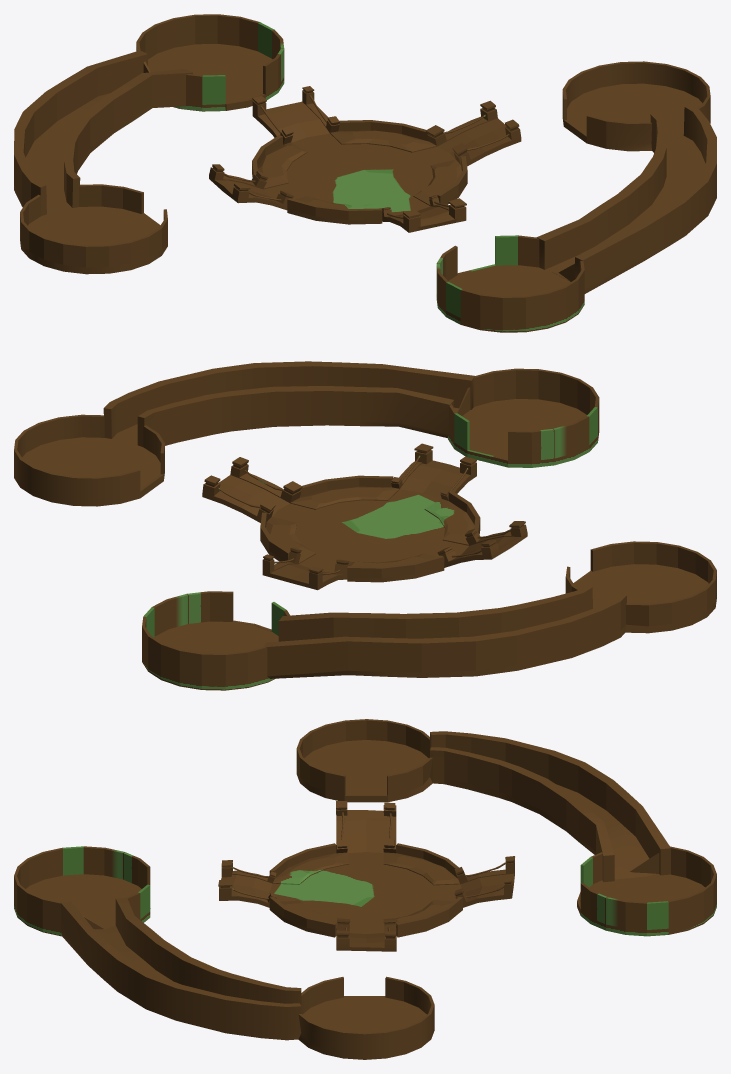
File: final map 1.fbx
3 renders of one model, top to bottom at view 1: azimuth 30°, elevation 25°; view 2: azimuth 150°, elevation 25°; view 3: azimuth 270°, elevation 25°, orthographic. The views are drawn at different scales.
Visible parts, largest first — view 1: polySurface1, midd_island, polySurface3, island_3, polySurface2; view 2: polySurface1, polySurface3, midd_island, polySurface2, island_3; view 3: polySurface3, polySurface1, midd_island, polySurface2, island_3.
Part boxes in pixels (x1,y1,x2,y2): polySurface1: (536,61,716,293); midd_island: (209,86,521,232); polySurface3: (14,50,192,274); island_3: (136,14,284,111); polySurface2: (436,235,584,332); polySurface1: (14,361,475,506); polySurface3: (263,541,716,678); midd_island: (202,443,527,590); polySurface2: (448,368,599,467); island_3: (142,591,290,690); polySurface3: (296,719,670,882); polySurface1: (61,897,434,1059); midd_island: (218,801,514,951); polySurface2: (14,846,150,936); island_3: (577,846,716,936).
Size of the model in its own units: 69.25 by 4.8 by 66.99.
